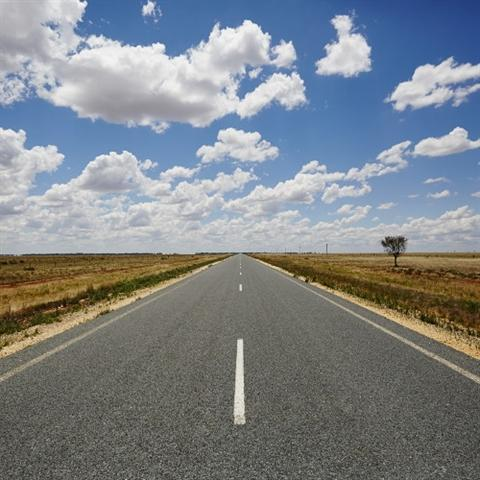cloud: (0, 4, 282, 255), (280, 4, 480, 237)
